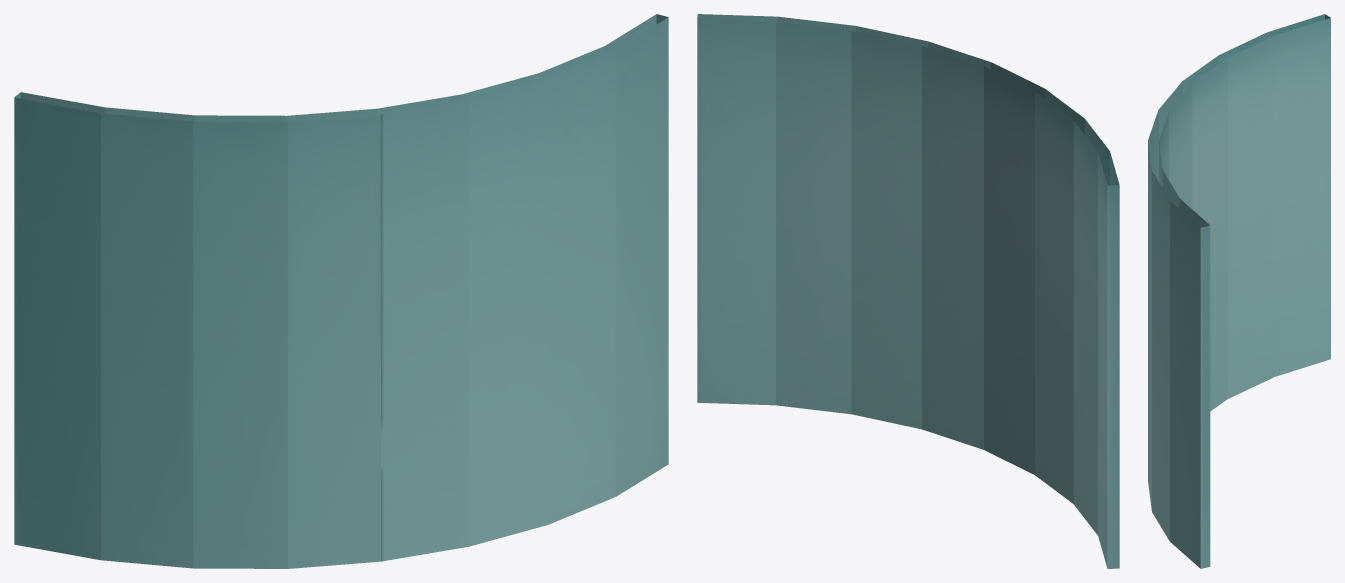
File: structure_05.glb
3 renders of one model, left to right at view 1: azimuth 30°, elevation 25°; view 2: azimuth 150°, elevation 25°; view 3: azimuth 270°, elevation 25°, orthographic. The views are drawn at different scales.
Parts seen in each view (by area): view 1: Structure.004; view 2: Structure.004; view 3: Structure.004.
Boxes of the visible parts, x1,y1,x2,y2 form: Structure.004: (14,14,668,568); Structure.004: (697,14,1119,568); Structure.004: (1148,14,1330,568).
Bounding box in the file's own units: 4.66 × 3.47 × 1.68.
Materials: 1 (1 with a texture image).
